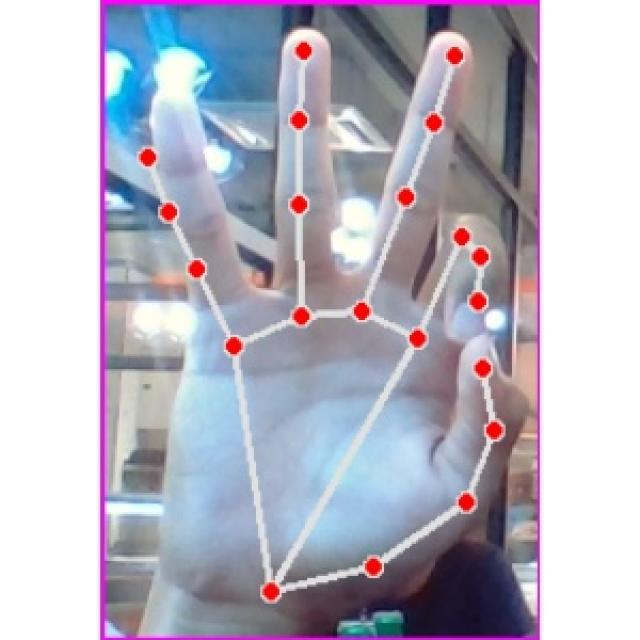F: (116, 22, 533, 608)
